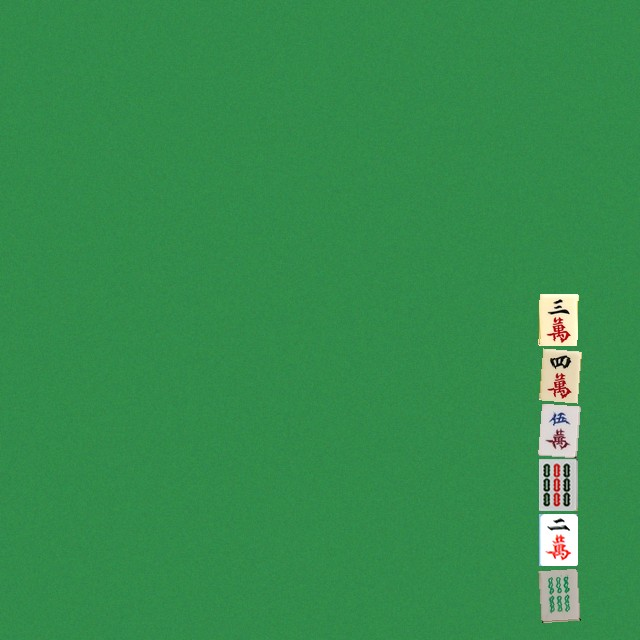tile: (538, 293, 577, 345), (538, 348, 577, 400), (538, 403, 577, 455), (538, 458, 577, 510), (538, 513, 577, 565), (538, 568, 577, 620)
